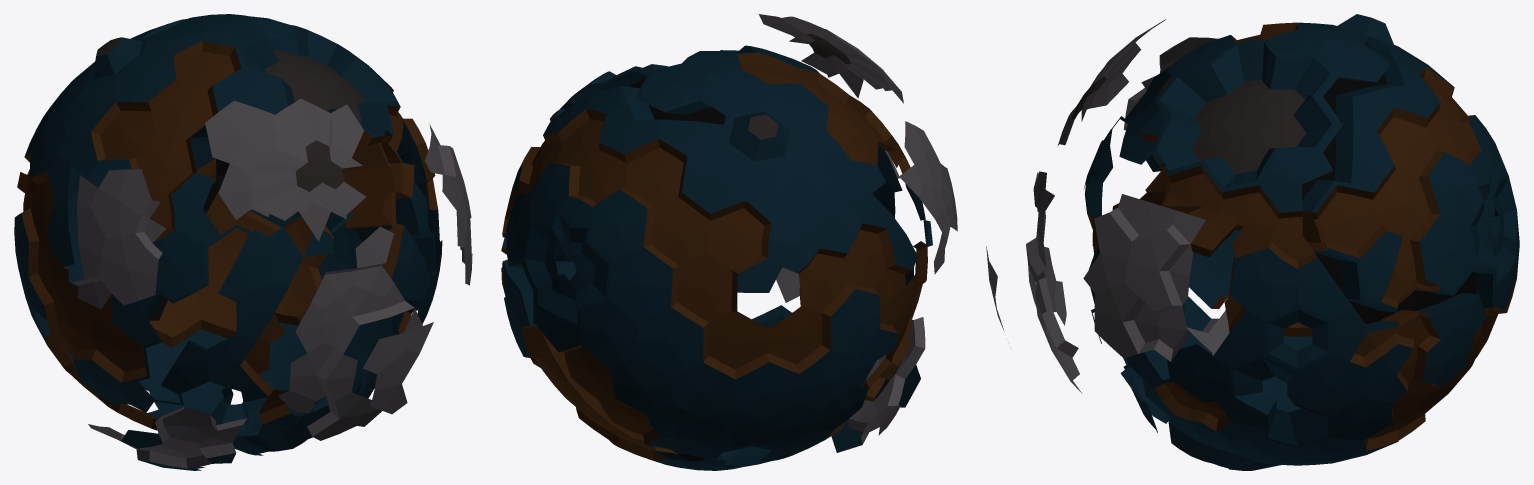
The model's file is Planet1Dest4.glb.
3 views of the same model, side by side, from view 1: azimuth 30°, elevation 25°; view 2: azimuth 150°, elevation 25°; view 3: azimuth 270°, elevation 25° (orthographic). The views are drawn at different scales.
Visible parts, largest first — view 1: Icosphere.027; view 2: Icosphere.027; view 3: Icosphere.027.
Boxes of the visible parts, x1=… form: Icosphere.027: x1=14, y1=14, x2=472, y2=470; Icosphere.027: x1=501, y1=14, x2=957, y2=470; Icosphere.027: x1=986, y1=14, x2=1519, y2=470.
Size of the model in its own units: 1.85 by 1.85 by 2.18.
